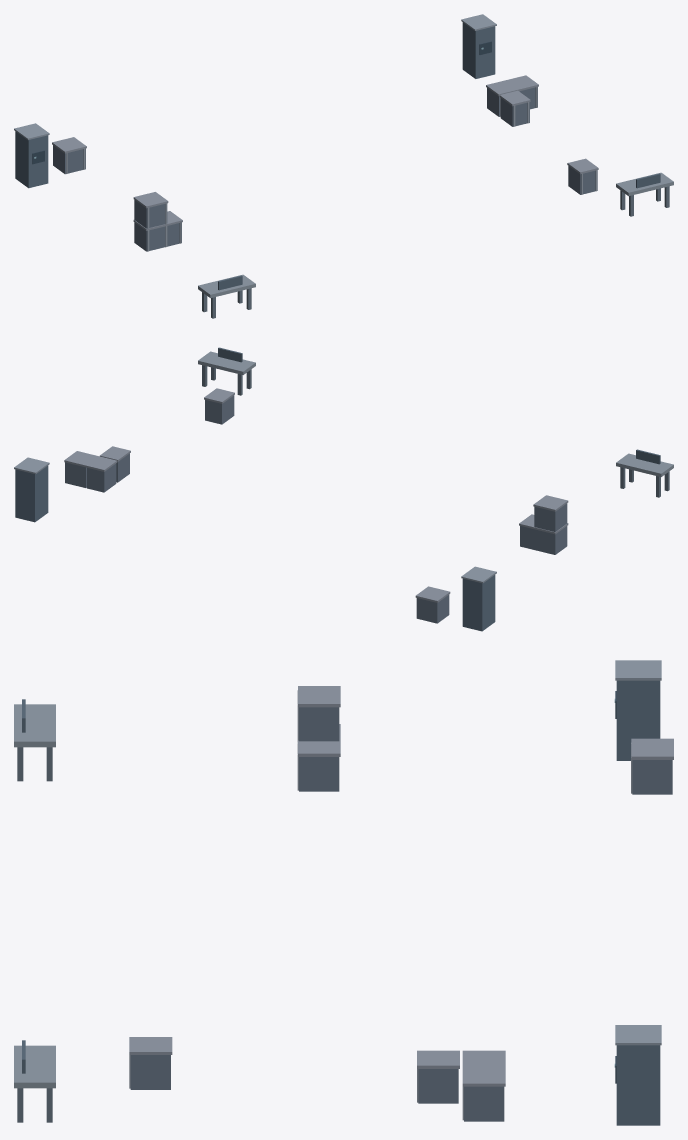
File: hangar-props.glb
The picture shows the model from 3 angles, top to bottom: view 1: azimuth 30°, elevation 25°; view 2: azimuth 150°, elevation 25°; view 3: azimuth 270°, elevation 25°; orthographic projection. The views are drawn at different scales.
Visible parts, largest first — view 1: 032_power_cabinet, 036_power_cabinet, 008_cargo_container, 024_cargo_container, 000_cargo_container, 020_cargo_container, 028_cargo_container, 040_service_bench, 046_service_bench; view 2: 032_power_cabinet, 036_power_cabinet, 024_cargo_container, 000_cargo_container, 040_service_bench, 046_service_bench, 008_cargo_container, 012_cargo_container, 028_cargo_container, 016_cargo_container; view 3: 036_power_cabinet, 032_power_cabinet, 040_service_bench, 046_service_bench, 016_cargo_container, 004_cargo_container, 020_cargo_container, 024_cargo_container, 028_cargo_container, 008_cargo_container, 035_cabinet_top, 039_cabinet_top (+6 smaller).
Boxes of the visible parts, x1,y1,x2,y2 form: 032_power_cabinet: [15, 131, 48, 188]; 036_power_cabinet: [462, 22, 495, 78]; 008_cargo_container: [134, 200, 167, 228]; 024_cargo_container: [53, 145, 85, 174]; 000_cargo_container: [134, 222, 165, 251]; 020_cargo_container: [500, 98, 529, 126]; 028_cargo_container: [568, 166, 597, 194]; 040_service_bench: [198, 274, 255, 298]; 046_service_bench: [616, 172, 673, 196]; 032_power_cabinet: [462, 575, 495, 631]; 036_power_cabinet: [15, 465, 48, 522]; 024_cargo_container: [416, 595, 449, 623]; 000_cargo_container: [534, 526, 567, 554]; 040_service_bench: [616, 453, 673, 476]; 046_service_bench: [198, 351, 255, 374]; 008_cargo_container: [534, 503, 567, 531]; 012_cargo_container: [87, 463, 116, 492]; 028_cargo_container: [205, 395, 234, 424]; 016_cargo_container: [65, 462, 86, 487]; 036_power_cabinet: [616, 1045, 660, 1125]; 032_power_cabinet: [616, 680, 660, 760]; 040_service_bench: [14, 704, 55, 747]; 046_service_bench: [14, 1045, 55, 1088]; 016_cargo_container: [464, 1086, 504, 1121]; 004_cargo_container: [299, 757, 339, 791]; 020_cargo_container: [418, 1069, 458, 1103]; 024_cargo_container: [632, 760, 672, 794]; 028_cargo_container: [130, 1055, 170, 1089]; 008_cargo_container: [299, 707, 339, 741]; 035_cabinet_top: [615, 660, 661, 680]; 039_cabinet_top: [615, 1025, 661, 1045].
Size of the model in its own units: 25.8 by 2.66 by 18.81.
